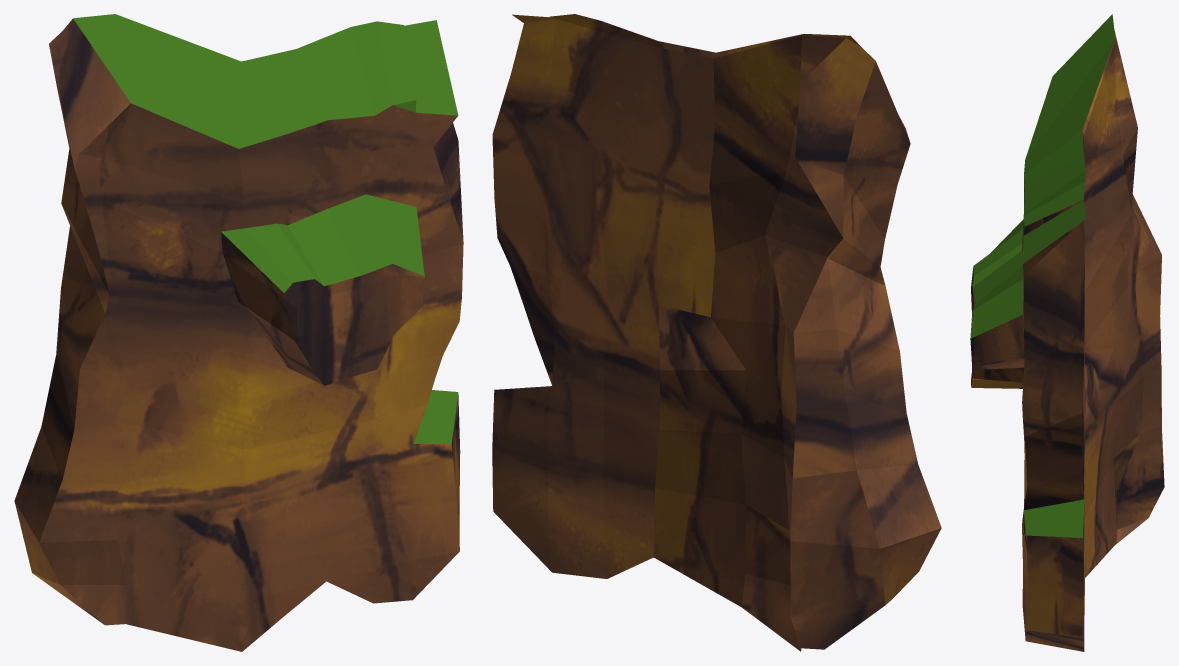
Rendered from sali71.obj.
The picture shows the model from 3 angles, left to right: view 1: azimuth 30°, elevation 25°; view 2: azimuth 150°, elevation 25°; view 3: azimuth 270°, elevation 25°; orthographic projection. The views are drawn at different scales.
Parts seen in each view (by area): view 1: Plane.035_Plane.038; view 2: Plane.035_Plane.038; view 3: Plane.035_Plane.038.
Part boxes in pixels (box(x1,y1,x2,y2)): Plane.035_Plane.038: box(14, 14, 463, 651); Plane.035_Plane.038: box(492, 14, 941, 651); Plane.035_Plane.038: box(970, 14, 1164, 651).
Size of the model in its own units: 135 by 187 by 63.32.
1 material, 1 textured.
